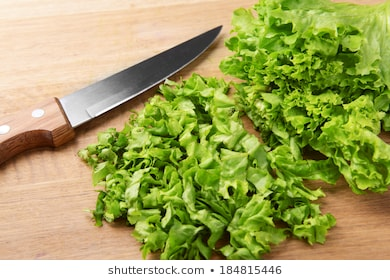chopped lettuce: (128, 28, 386, 251)
